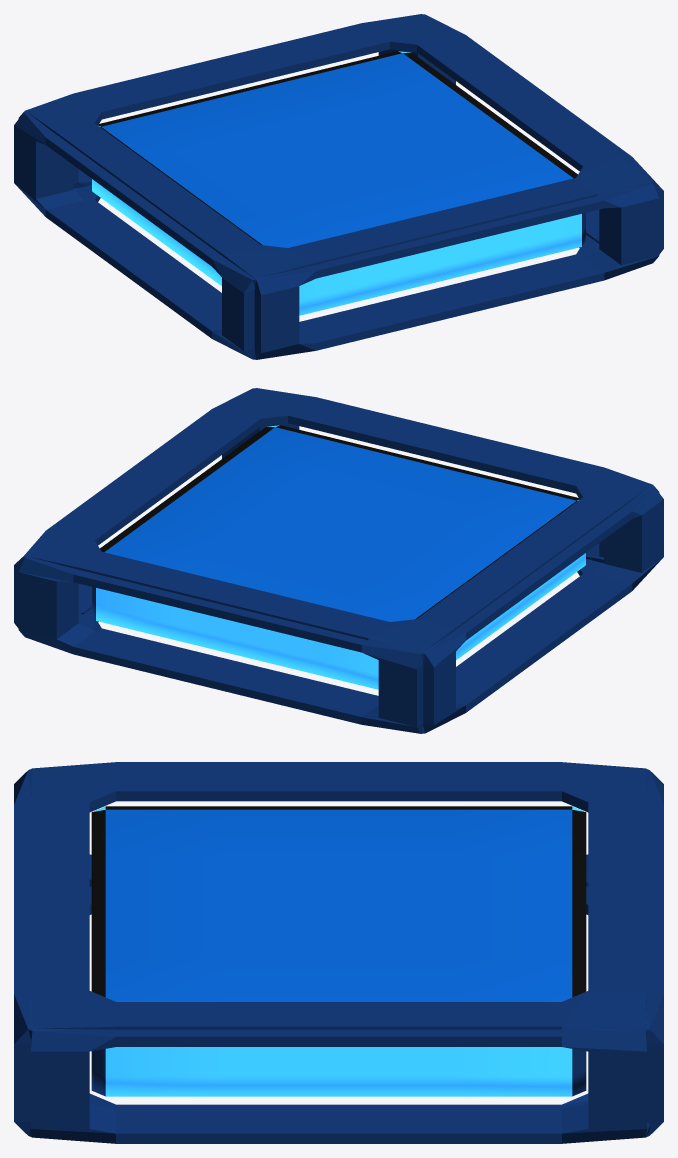
The model's file is blue tile.fbx.
The picture shows the model from 3 angles, top to bottom: view 1: azimuth 30°, elevation 25°; view 2: azimuth 150°, elevation 25°; view 3: azimuth 270°, elevation 25°; orthographic projection. The views are drawn at different scales.
Parts seen in each view (by area): view 1: black tile.001, black tile.000; view 2: black tile.001, black tile.000; view 3: black tile.000, black tile.001.
Boxes of the visible parts, x1,y1,x2,y2 form: black tile.001: (14,14,663,359); black tile.000: (92,51,585,315); black tile.001: (14,388,663,733); black tile.000: (92,425,585,689); black tile.000: (91,806,586,1096); black tile.001: (14,762,663,1143).
Bounding box in the file's own units: 501 × 96.11 × 501.
